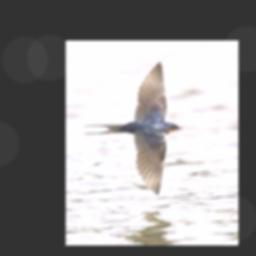Swallow: (82, 62, 181, 195)
